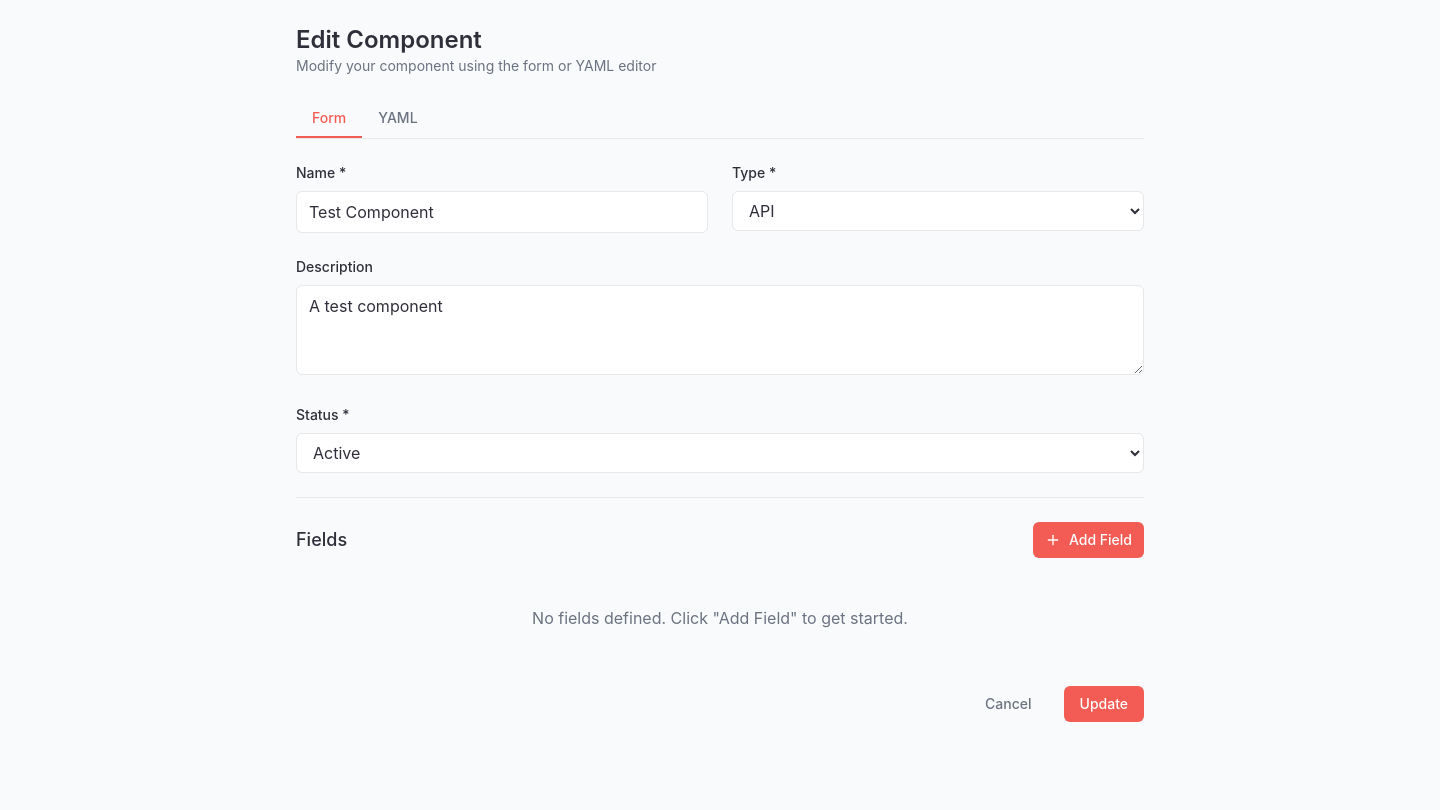
Test: ComponentDesigner - Optimistic Concurrency › handles open latest action correctly
Note: Fill out the form and submit
Replace the text in the field labelled "Name *" with "Updated Component" at [502, 212], box [296,191,708,233]
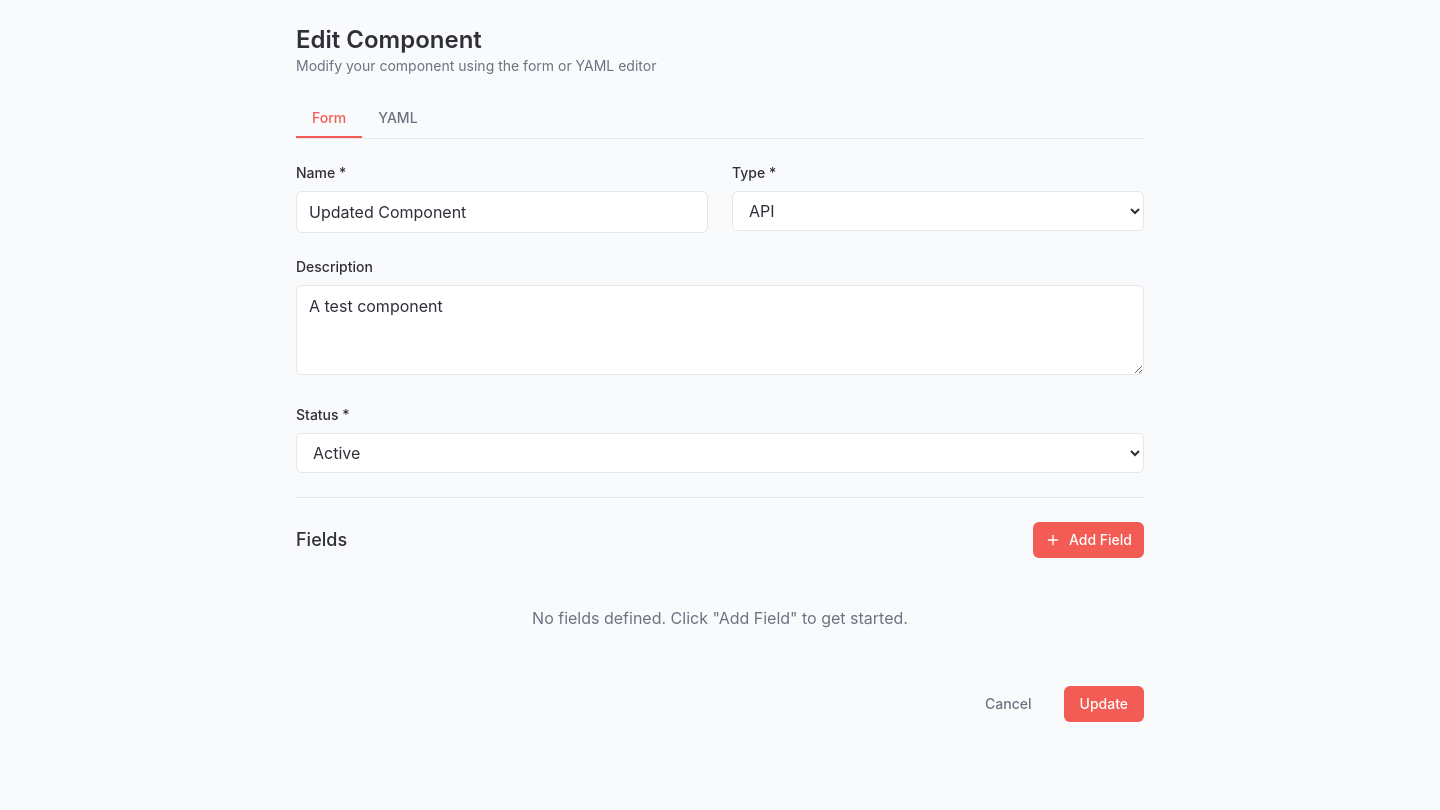
Click the button "Update" at [1104, 704], box [1064,686,1144,722]
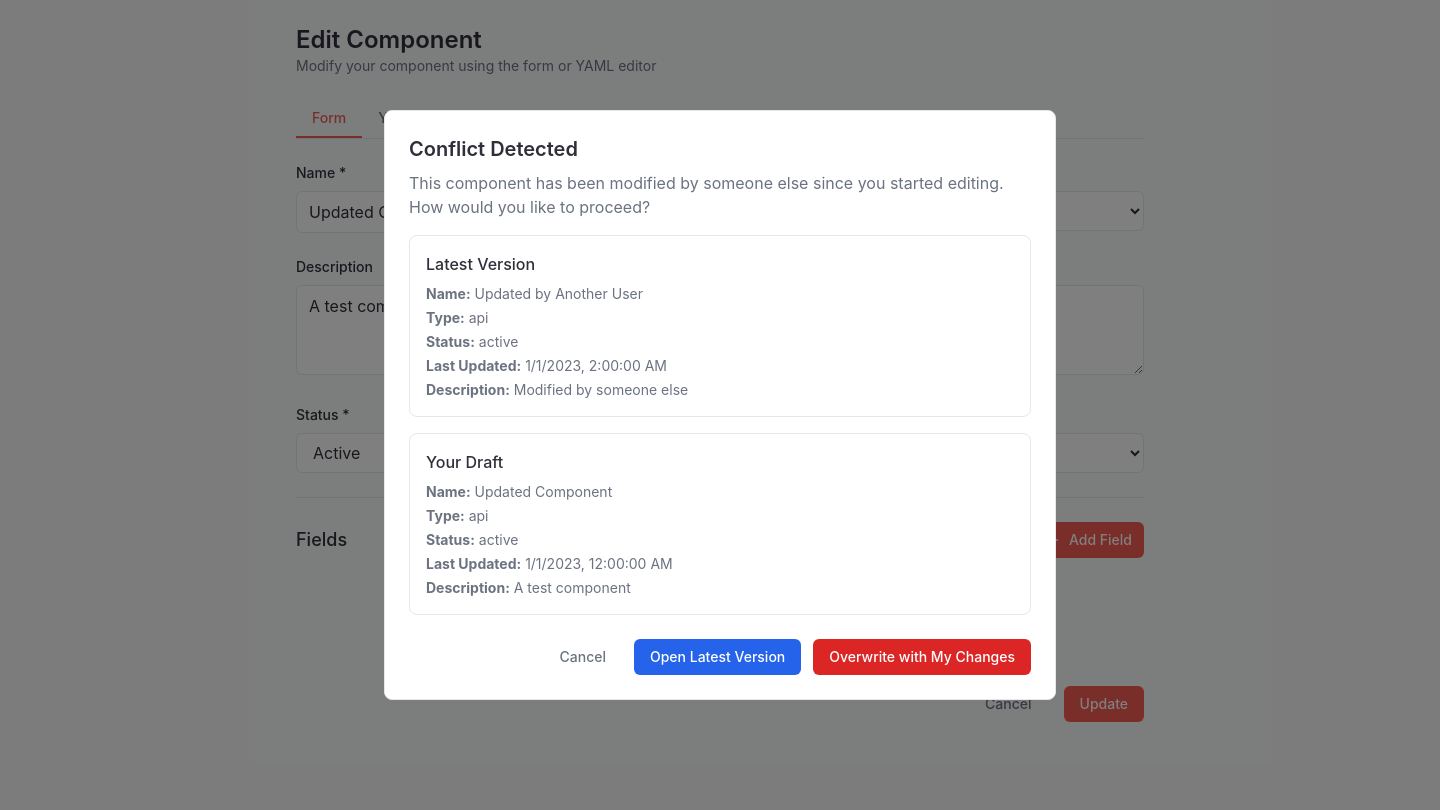
Check: the heading "Conflict Detected" is shown, box [409,137,578,161]
Note: Click open latest
Click the button "Open Latest Version" at [718, 657], box [634,639,801,675]
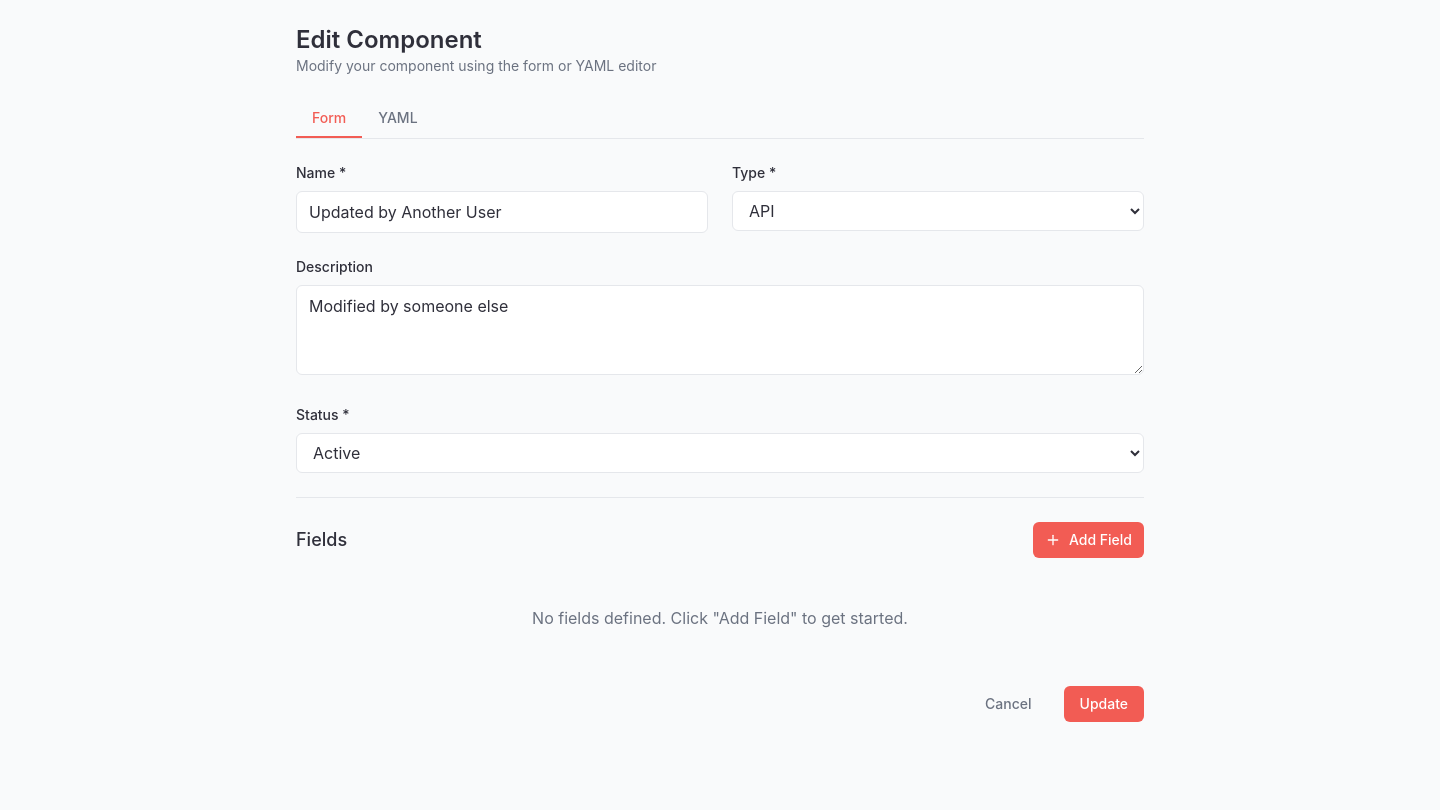
Check: the field showing "Updated by Another User" is shown, box [296,191,708,233]
